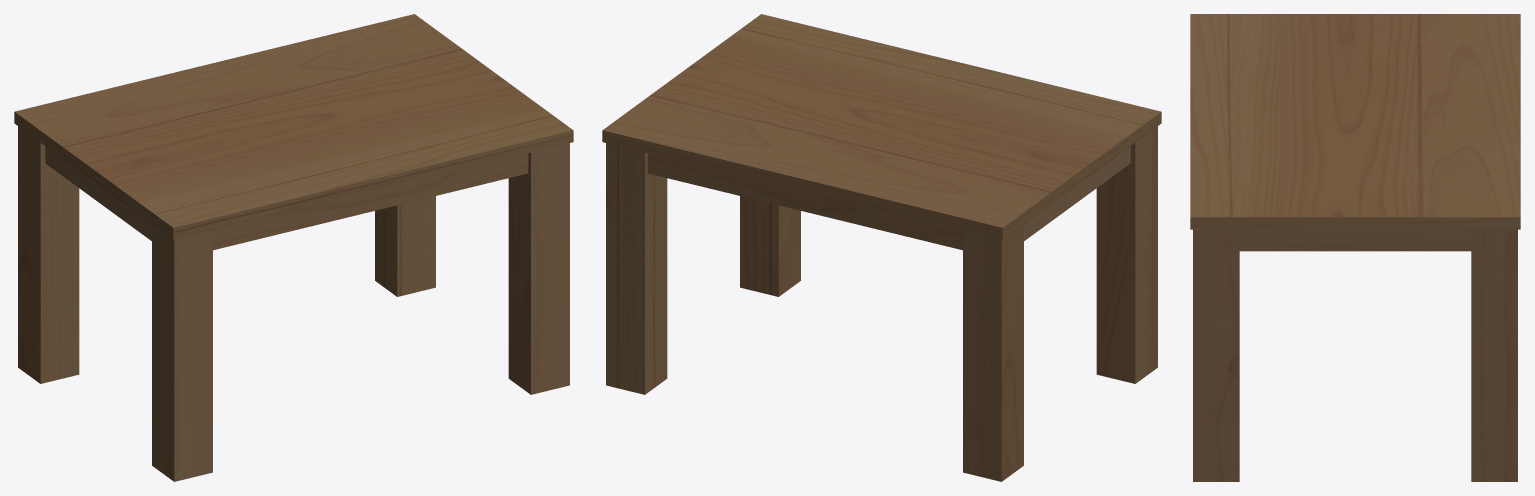
The model's file is desk.fbx.
3 renders of one model, left to right at view 1: azimuth 30°, elevation 25°; view 2: azimuth 150°, elevation 25°; view 3: azimuth 270°, elevation 25°, orthographic. The views are drawn at different scales.
Visible parts, largest first — view 1: Cube; view 2: Cube; view 3: Cube.
Boxes of the visible parts, x1,y1,x2,y2 form: Cube: [14, 14, 573, 481]; Cube: [602, 14, 1161, 481]; Cube: [1190, 14, 1520, 481].
Size of the model in its own units: 3.44 by 2.1 by 2.36.
1 material, 1 textured.
